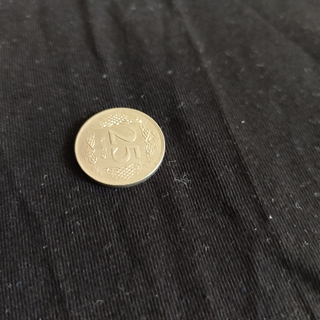25KURUS: (73, 105, 166, 189)
